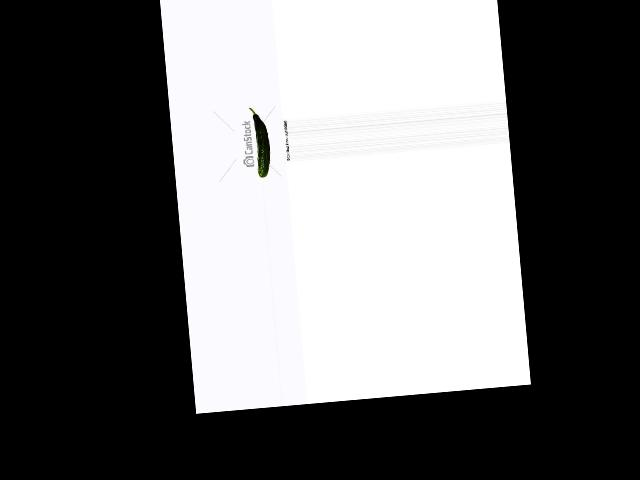cucumber: (249, 105, 272, 177)
